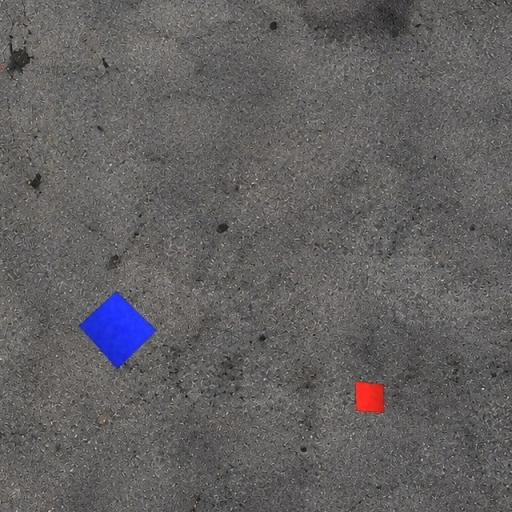BLUE_SQUARE: (78, 290, 158, 370)
RED_SQUARE: (354, 381, 385, 413)
